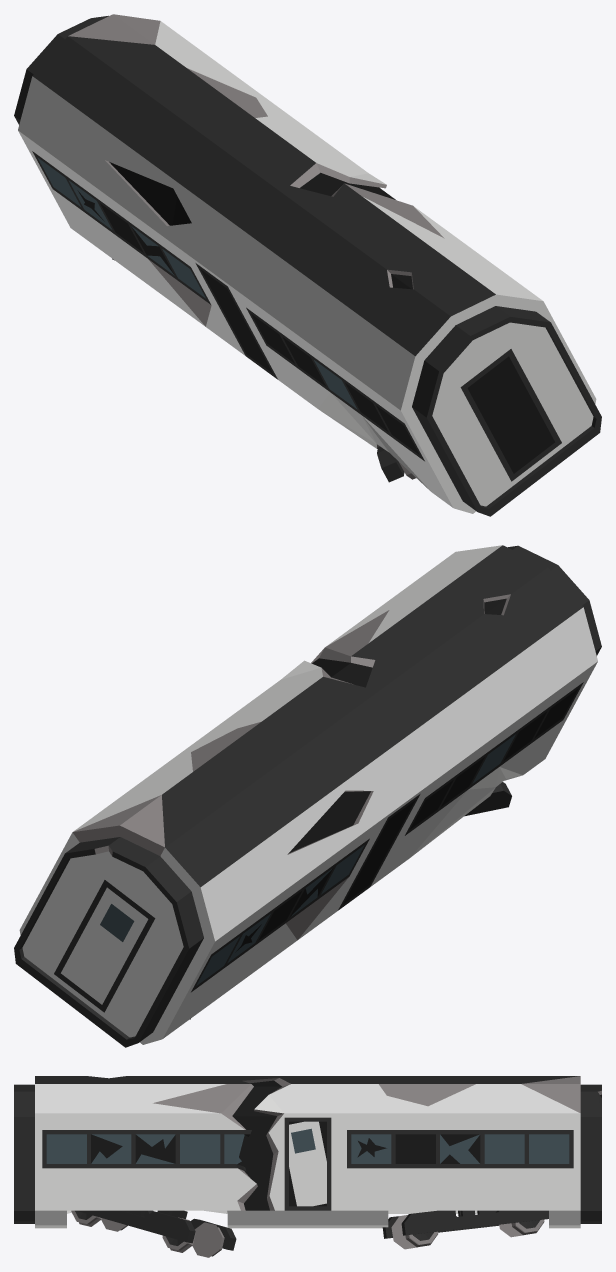
File: apocalypse_train-speed-wagon-apocalypse-b.fbx
The picture shows the model from 3 angles, top to bottom: view 1: azimuth 30°, elevation 25°; view 2: azimuth 150°, elevation 25°; view 3: azimuth 270°, elevation 25°; orthographic projection. The views are drawn at different scales.
Parts seen in each view (by area): view 1: apocalypse_train_speed_wagon_apocalypse_b; view 2: apocalypse_train_speed_wagon_apocalypse_b; view 3: apocalypse_train_speed_wagon_apocalypse_b.
Part boxes in pixels (bbox=[...]): apocalypse_train_speed_wagon_apocalypse_b: bbox=[14, 14, 601, 516]; apocalypse_train_speed_wagon_apocalypse_b: bbox=[14, 545, 601, 1047]; apocalypse_train_speed_wagon_apocalypse_b: bbox=[14, 1076, 601, 1257].
Size of the model in its own units: 63.37 by 58.02 by 200.
